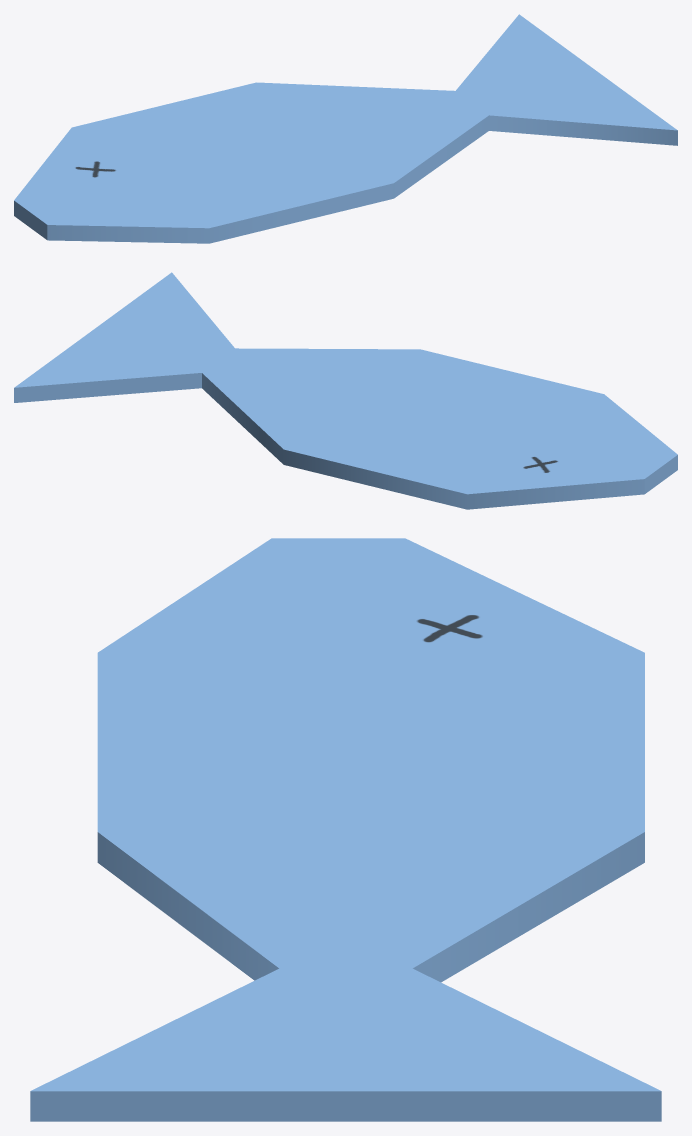
File: fish projectile.fbx
The picture shows the model from 3 angles, top to bottom: view 1: azimuth 30°, elevation 25°; view 2: azimuth 150°, elevation 25°; view 3: azimuth 270°, elevation 25°; orthographic projection. The views are drawn at different scales.
Parts seen in each view (by area): view 1: pCube1; view 2: pCube1; view 3: pCube1.
Part boxes in pixels (<box>): pCube1: <box>14,14,677,243</box>; pCube1: <box>14,272,677,509</box>; pCube1: <box>30,538,661,1121</box>.
Bounding box in the file's own units: 19.66 × 0.5106 × 9.49.
Materials: 1 (1 with a texture image).
